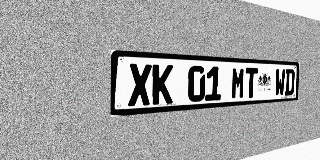0: (188, 65, 205, 102)
1: (205, 66, 222, 101)
D: (285, 69, 295, 96)
K: (152, 64, 173, 105)
M: (231, 67, 245, 99)
T: (245, 68, 258, 98)
W: (274, 69, 285, 96)
X: (128, 63, 152, 106)
